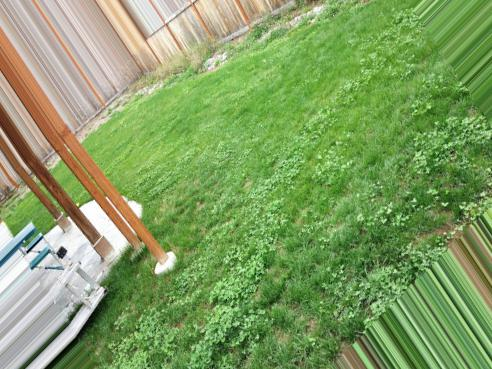patch: (129, 24, 136, 32)
